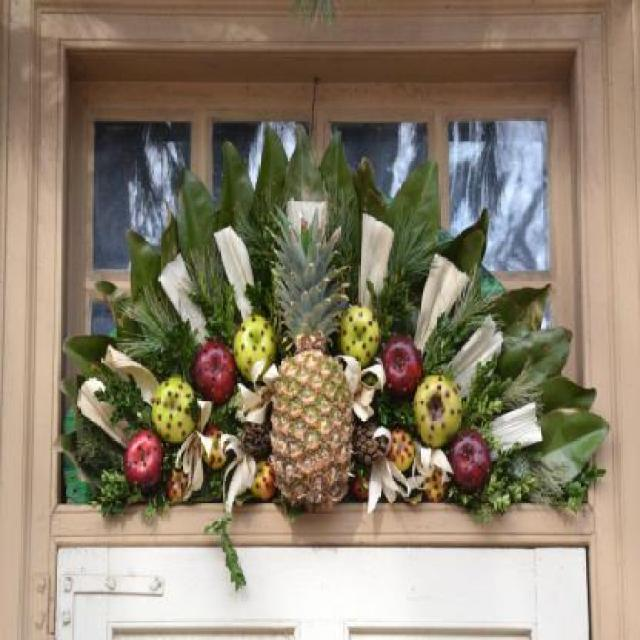Pineapple: (268, 192, 357, 510)
